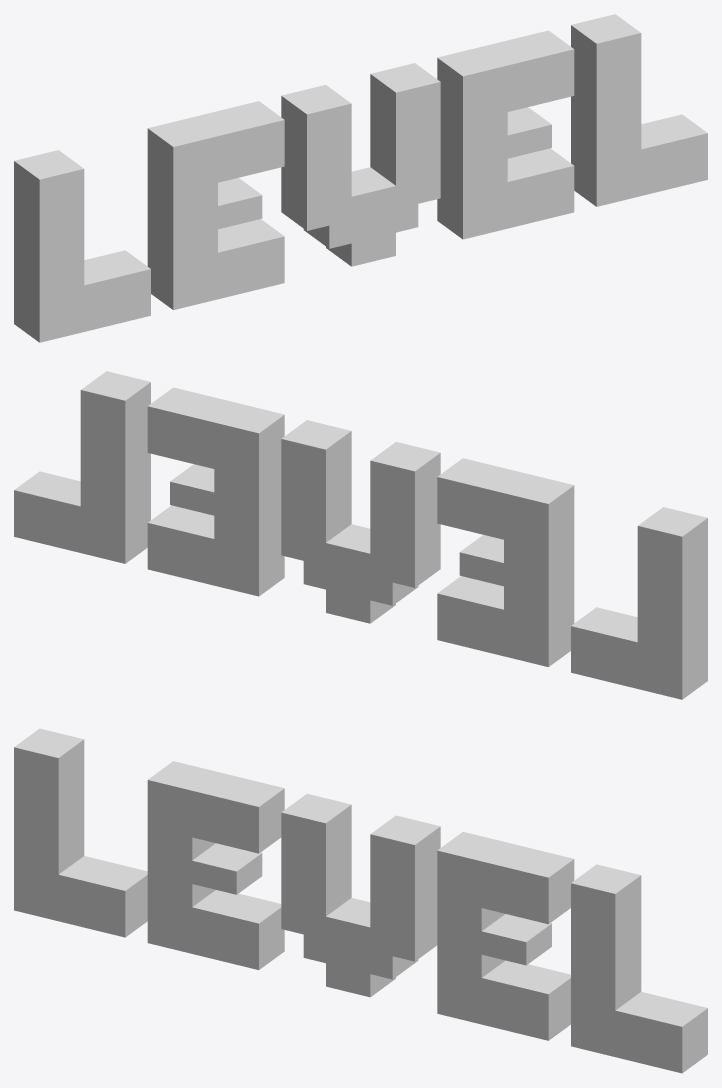
The model's file is Level Text.obj.
The picture shows the model from 3 angles, top to bottom: view 1: azimuth 30°, elevation 25°; view 2: azimuth 150°, elevation 25°; view 3: azimuth 330°, elevation 25°; orthographic projection.
Bounding box in the file's own units: 3 × 0.7 × 0.2.
1 material, 1 textured.
